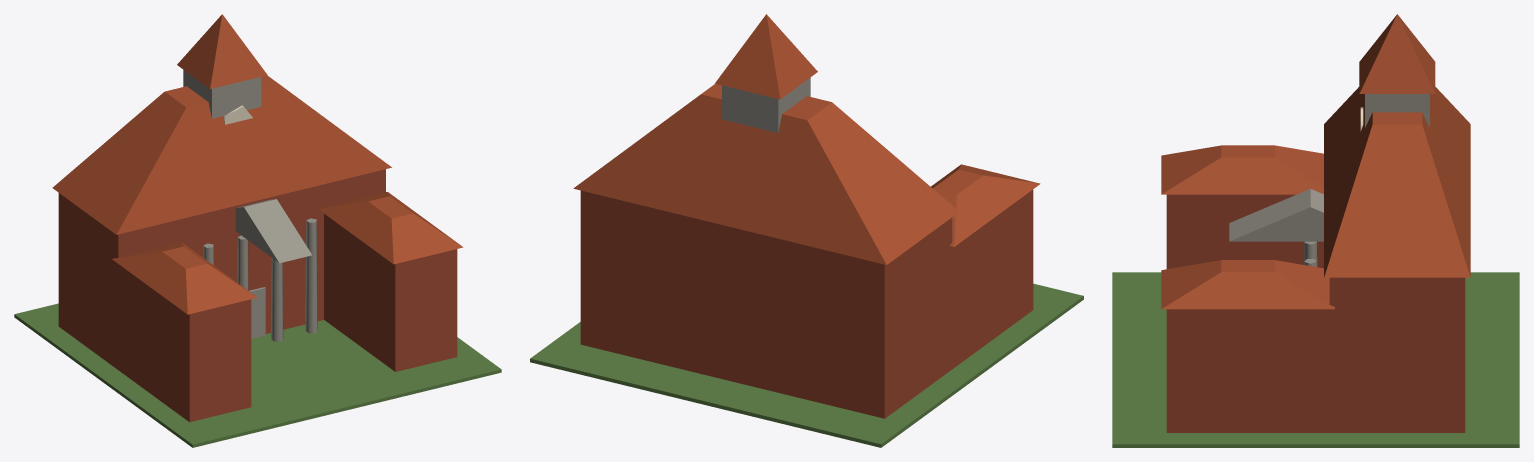
File: bld_special_university_a04_lod2.glb
3 views of the same model, side by side, from view 1: azimuth 30°, elevation 25°; view 2: azimuth 150°, elevation 25°; view 3: azimuth 270°, elevation 25° (orthographic). The views are drawn at different scales.
Parts seen in each view (by area): view 1: body; view 2: body; view 3: body.
Boxes of the visible parts, x1,y1,x2,y2 form: body: (14, 14, 501, 447); body: (530, 14, 1083, 447); body: (1112, 14, 1519, 447).
Bounding box in the file's own units: 15 × 14.15 × 15.
